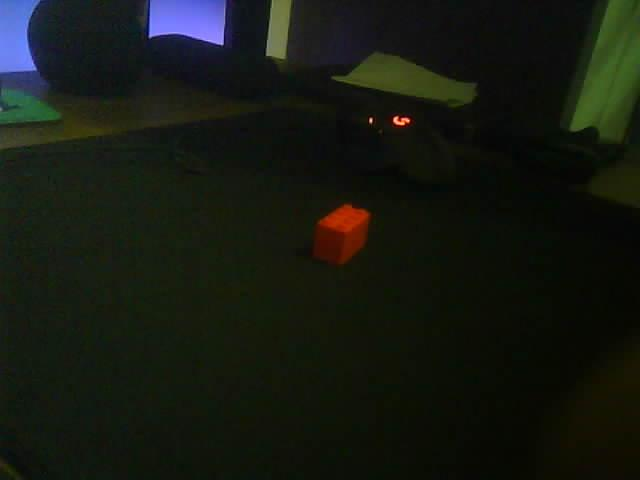lego: (314, 202, 371, 264)
